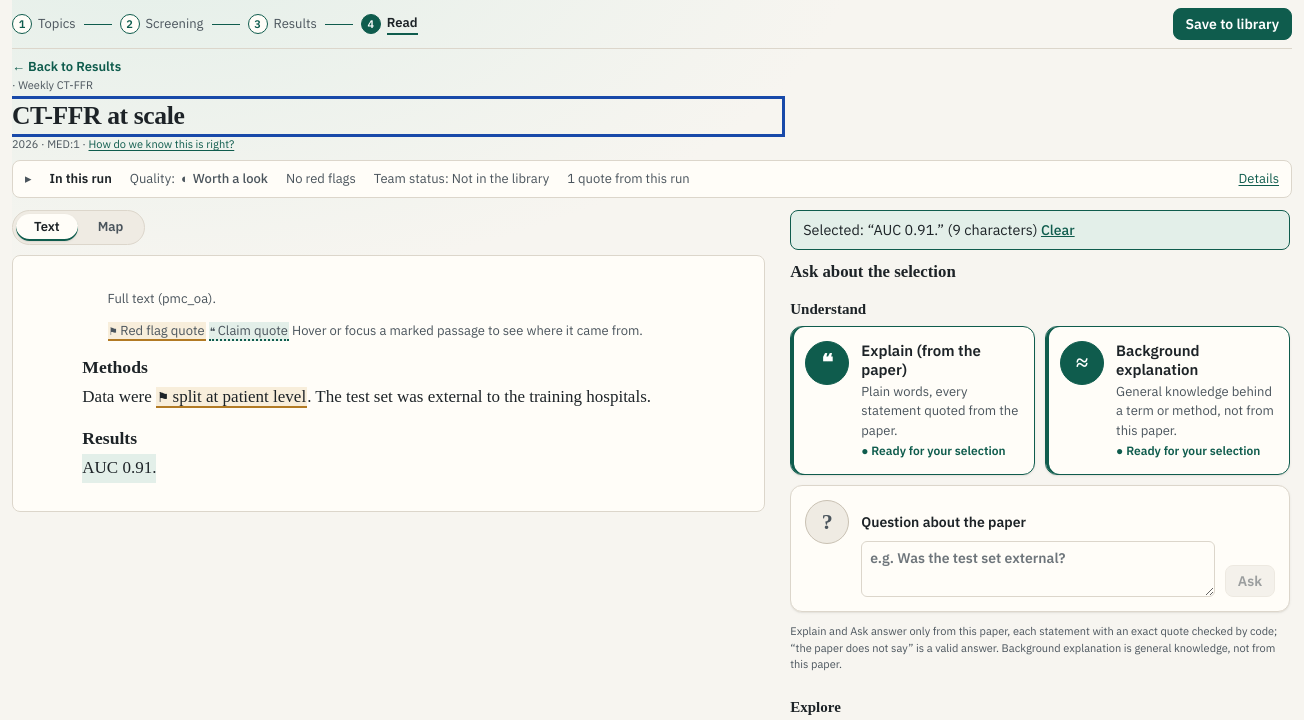
ReaderPage › labels a background explanation as general knowledge
Check: the heading "Methods" is shown, box x1=82 y1=357 x2=148 y2=377
Click the button "Background explanation". click: (1196, 360)
box: x1=1116 y1=341 x2=1275 y2=380
(page scrolled)
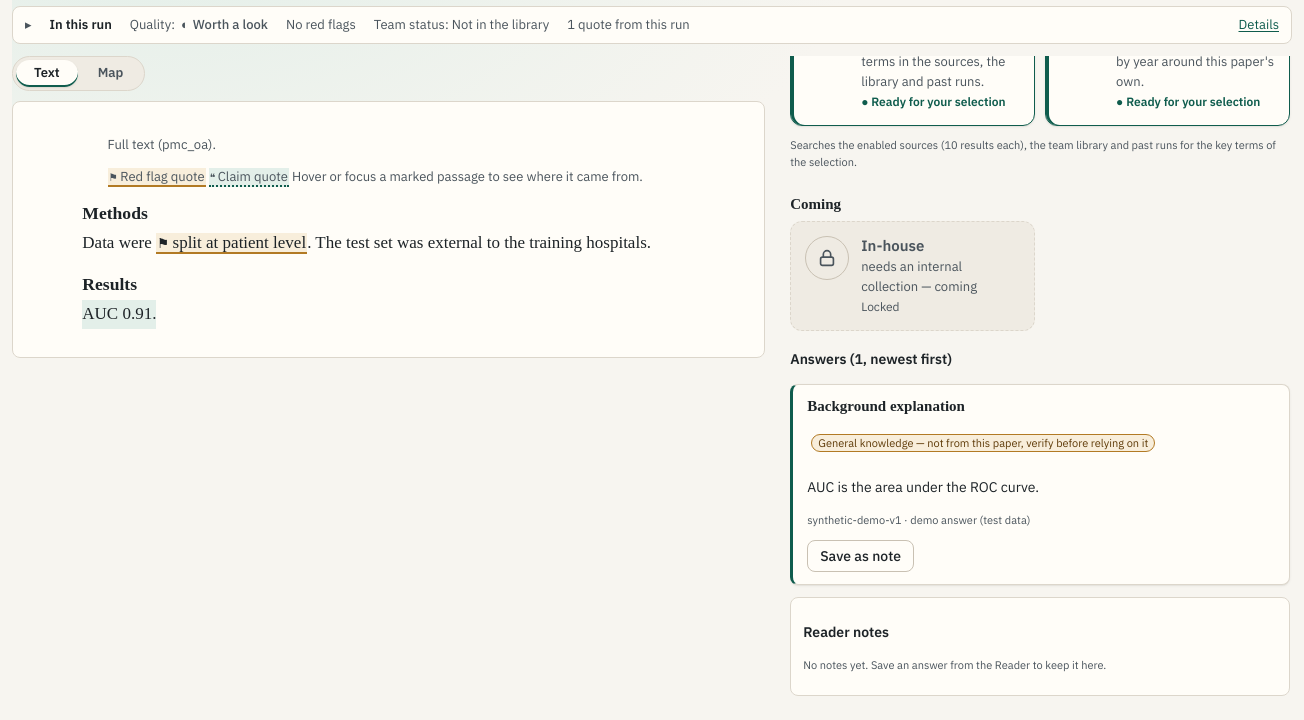
Check: the text "General knowledge — not from this paper, verify before relying on it" is shown, box x1=811 y1=434 x2=1155 y2=452
